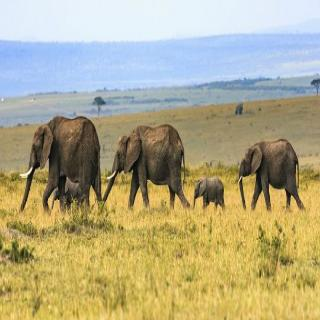Elephant: (16, 115, 103, 217), (101, 122, 193, 214), (236, 137, 307, 214), (191, 175, 227, 212)
